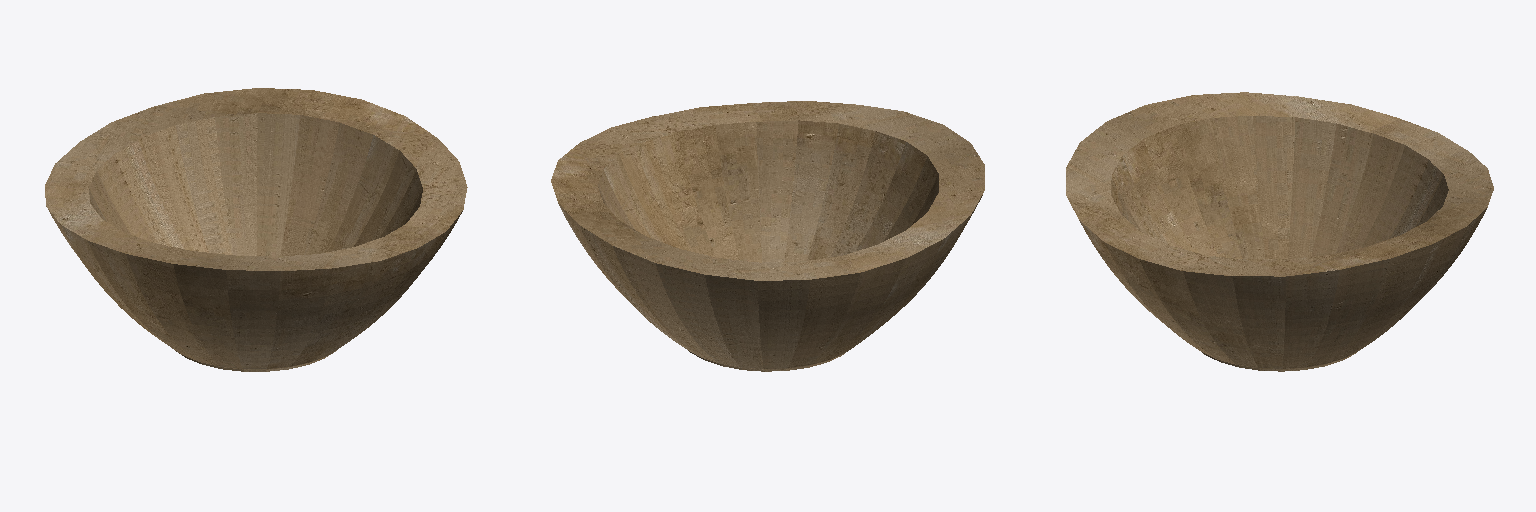
3 renders of one model, left to right at view 1: azimuth 30°, elevation 25°; view 2: azimuth 150°, elevation 25°; view 3: azimuth 270°, elevation 25°, orthographic.
Visible parts, largest first — view 1: mesh1_mesh1-geometry; view 2: mesh1_mesh1-geometry; view 3: mesh1_mesh1-geometry.
Part boxes in pixels (x1,y1,x2,y2): mesh1_mesh1-geometry: (45, 88, 467, 371); mesh1_mesh1-geometry: (551, 101, 984, 371); mesh1_mesh1-geometry: (1066, 92, 1493, 371).
Bounding box in the file's own units: 0.6803 × 0.2728 × 0.6803.
Materials: 1 (1 with a texture image).